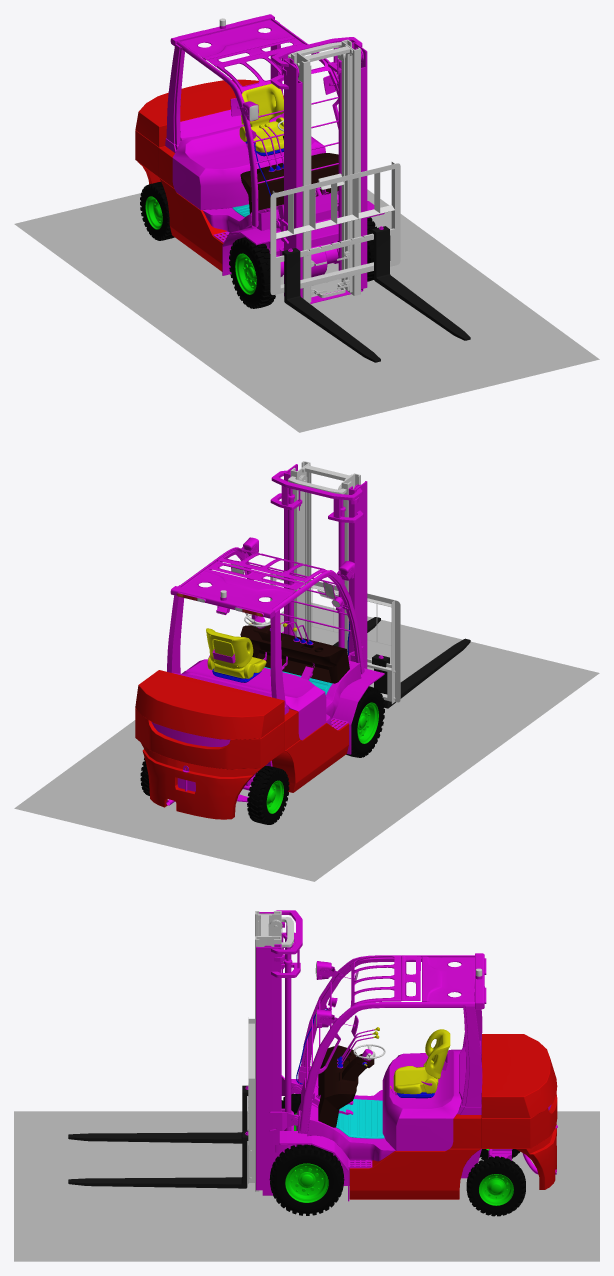
Rendered from Forklift.fbx.
3 views of the same model, one above another, from view 1: azimuth 30°, elevation 25°; view 2: azimuth 150°, elevation 25°; view 3: azimuth 270°, elevation 25° (orthographic). The views are drawn at different scales.
Parts seen in each view (by area): view 1: Lift_shadow, Lift_body, Lift_mast_2, Lift_mast_1, Lift_tire_F, Lift_mast_1A, Lift_mast_1B, Lift_tire_RR; view 2: Lift_shadow, Lift_body, Lift_mast_2, Lift_tire_RR, Lift_mast_1, Lift_tire_F, Lift_mast_1A; view 3: Lift_shadow, Lift_body, Lift_tire_F, Lift_tire_RL, Lift_mast_1B, Lift_mast_1A, Lift_mast_2, Lift_mast_1.
Part boxes in pixels (bbox=[...]): Lift_shadow: bbox=[14, 189, 599, 432]; Lift_body: bbox=[135, 14, 384, 303]; Lift_mast_2: bbox=[288, 39, 360, 303]; Lift_mast_1: bbox=[270, 162, 400, 294]; Lift_tire_F: bbox=[229, 217, 376, 308]; Lift_mast_1A: bbox=[282, 248, 380, 362]; Lift_mast_1B: bbox=[372, 226, 470, 340]; Lift_tire_RR: bbox=[140, 181, 174, 240]; Lift_shadow: bbox=[14, 602, 599, 881]; Lift_body: bbox=[135, 464, 384, 819]; Lift_mast_2: bbox=[288, 461, 360, 654]; Lift_tire_RR: bbox=[247, 766, 289, 824]; Lift_mast_1: bbox=[270, 573, 400, 703]; Lift_tire_F: bbox=[346, 686, 384, 757]; Lift_mast_1A: bbox=[372, 638, 470, 708]; Lift_shadow: bbox=[14, 1111, 599, 1261]; Lift_body: bbox=[256, 910, 557, 1201]; Lift_tire_F: bbox=[269, 1093, 344, 1215]; Lift_tire_RL: bbox=[466, 1156, 525, 1216]; Lift_mast_1B: bbox=[68, 1130, 248, 1188]; Lift_mast_1A: bbox=[68, 1085, 248, 1143]; Lift_mast_2: bbox=[255, 911, 293, 1191]; Lift_mast_1: bbox=[248, 1017, 254, 1183].
Bounding box in the file's own units: 345 × 279 × 567.
